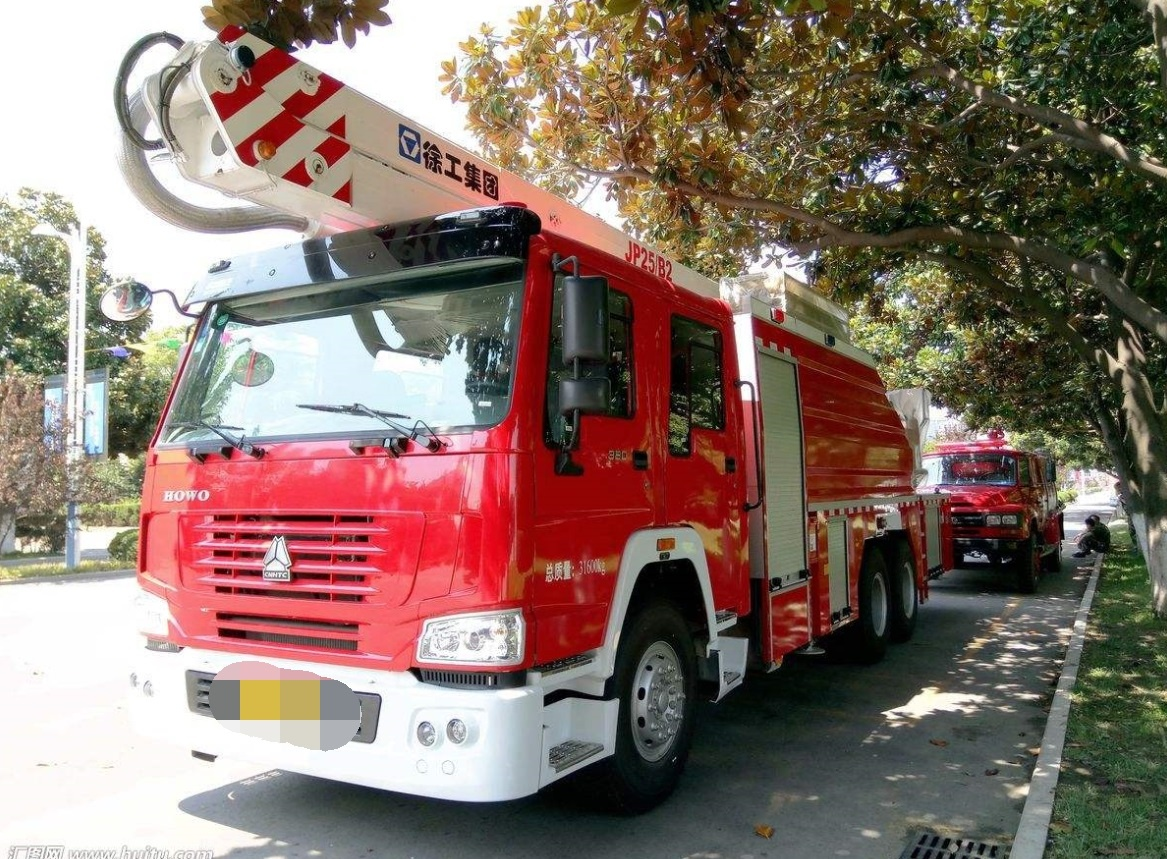fire engine: (106, 214, 952, 801)
